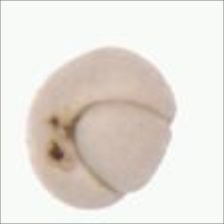L5: (69, 96, 174, 196), (19, 69, 58, 139)
L6: (18, 44, 180, 211)
